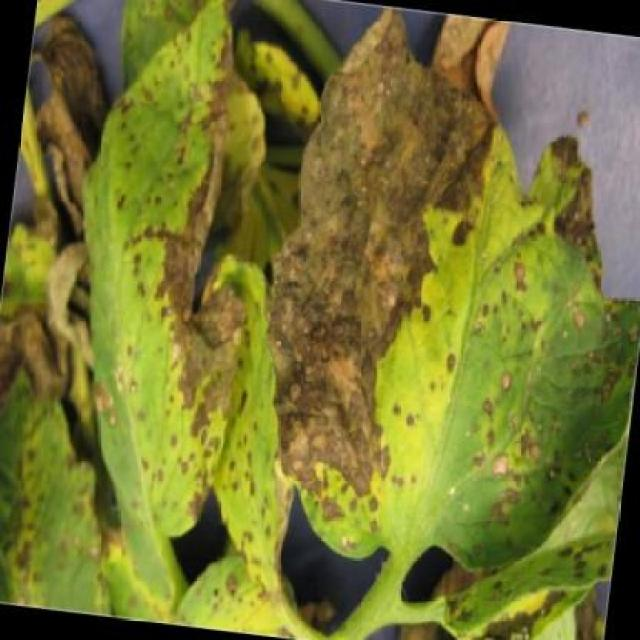Septoria leaf spot: (243, 0, 640, 598), (38, 0, 274, 589)
